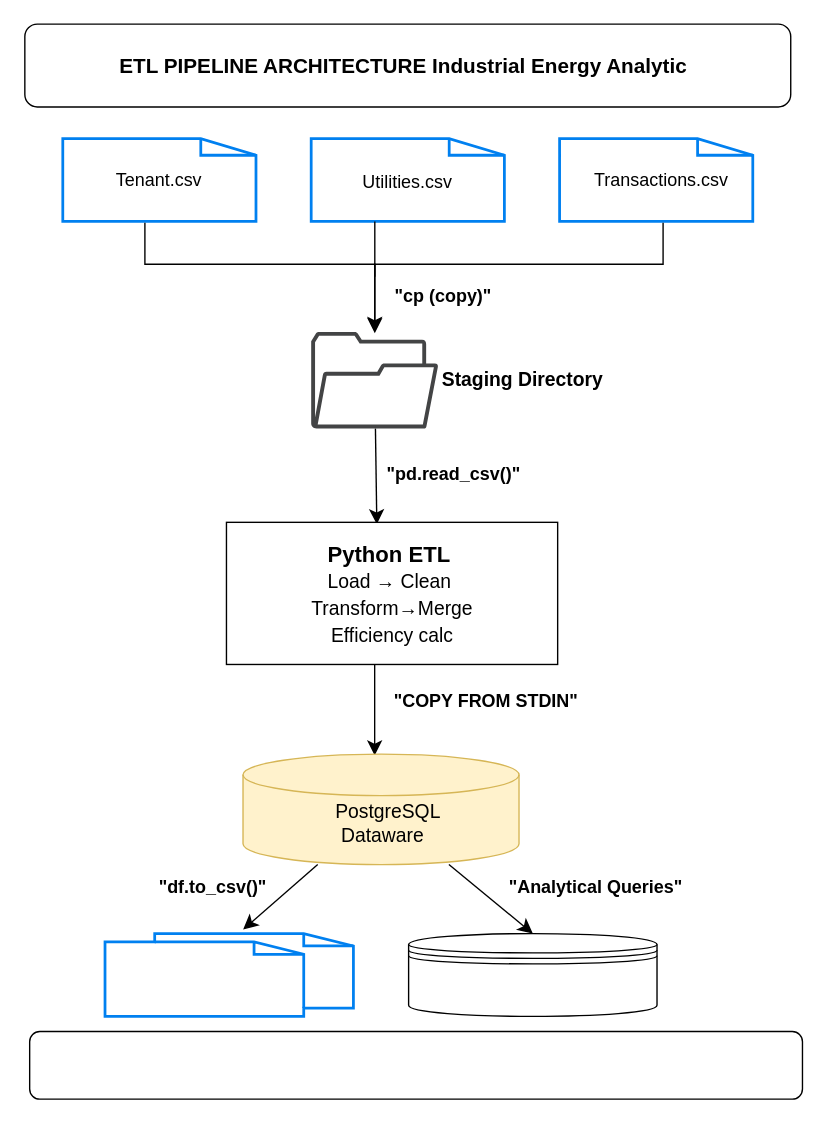
Some shapes in this 827 by 1123 pixel diagram are drawn without their labels. Here are the shapes that lost their labels. From the top down, the centre of each, then its label:
At point (228, 974): "CSV Output final_...".
At point (532, 974): "Dashboard Insights".
At point (415, 1064): "⏰ Cron Job (Daily at 1 AM): bash scripts/ingest.sh".
